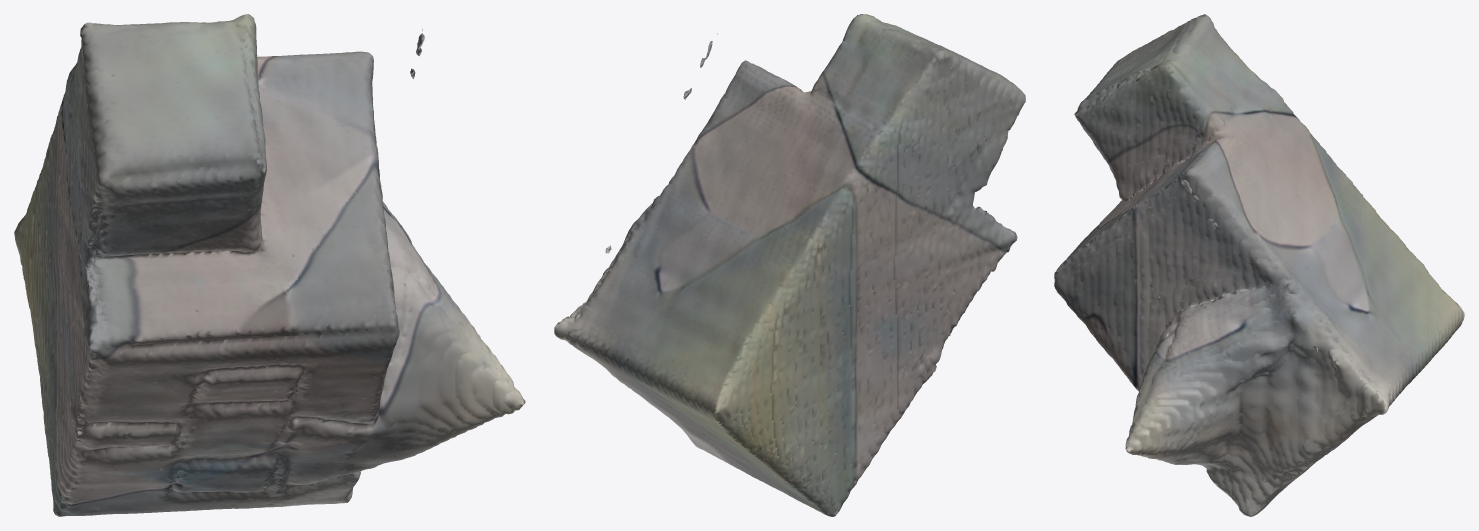
Rendered from clean.fbx.
3 views of the same model, side by side, from view 1: azimuth 30°, elevation 25°; view 2: azimuth 150°, elevation 25°; view 3: azimuth 270°, elevation 25° (orthographic). The views are drawn at different scales.
Parts seen in each view (by area): view 1: raw; view 2: raw; view 3: raw.
Boxes of the visible parts, x1,y1,x2,y2 form: raw: (14, 14, 525, 516); raw: (554, 14, 1025, 516); raw: (1054, 14, 1464, 516).
Size of the model in its own units: 79.25 by 100 by 92.29.
Materials: 1 (1 with a texture image).
